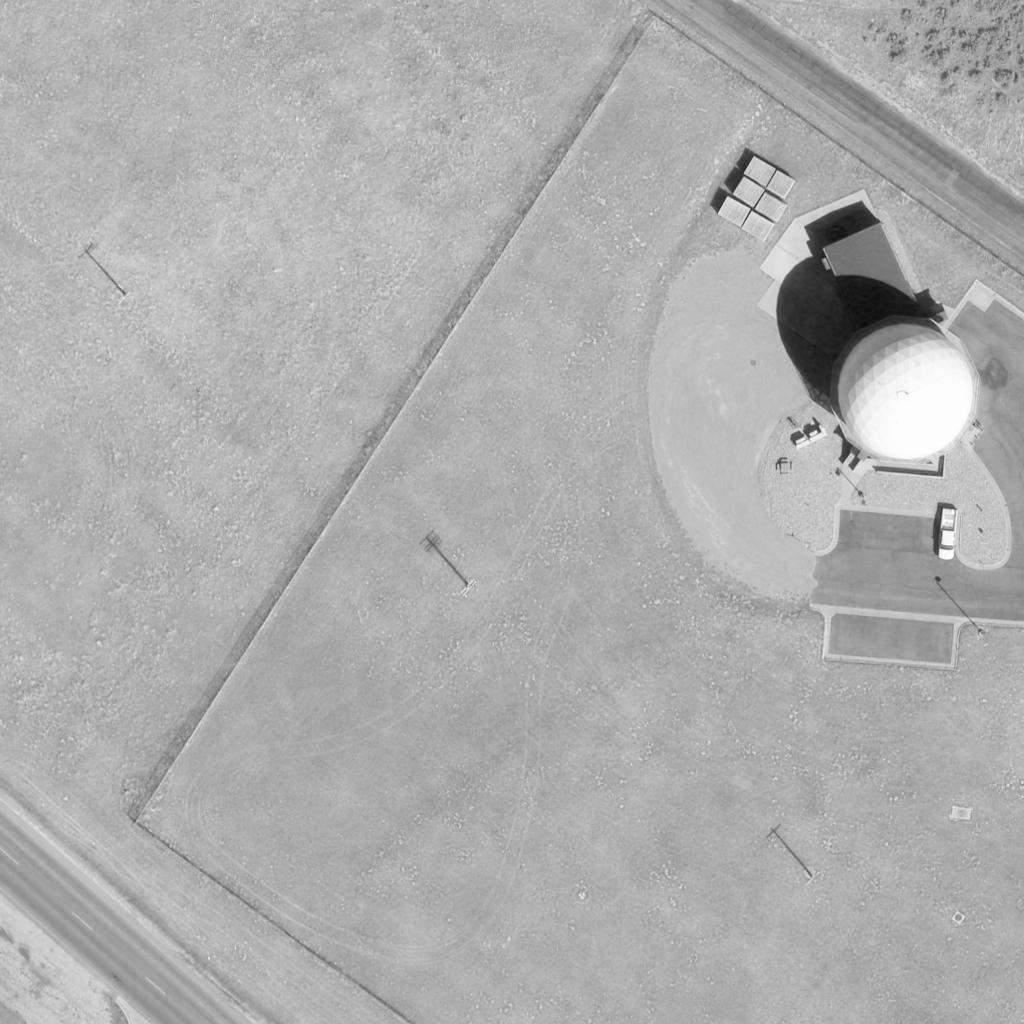vehicle: (938, 510, 960, 560)
